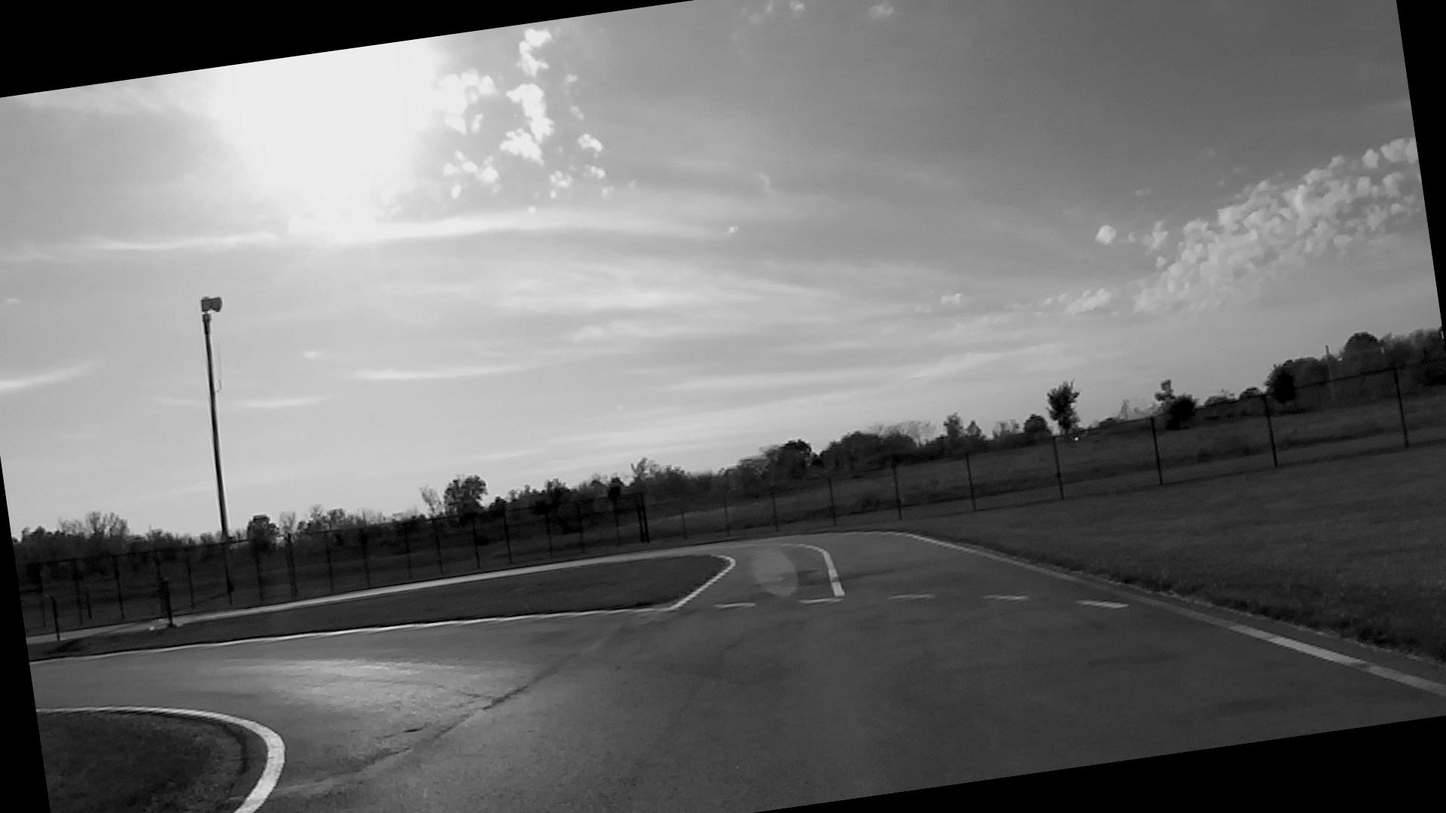white-line: (92, 555, 733, 658), (1112, 585, 1446, 698), (35, 705, 284, 813), (883, 531, 1103, 585), (797, 543, 844, 598), (1077, 599, 1127, 609), (983, 593, 1028, 601), (890, 593, 934, 599), (799, 598, 838, 604), (714, 603, 753, 608)
